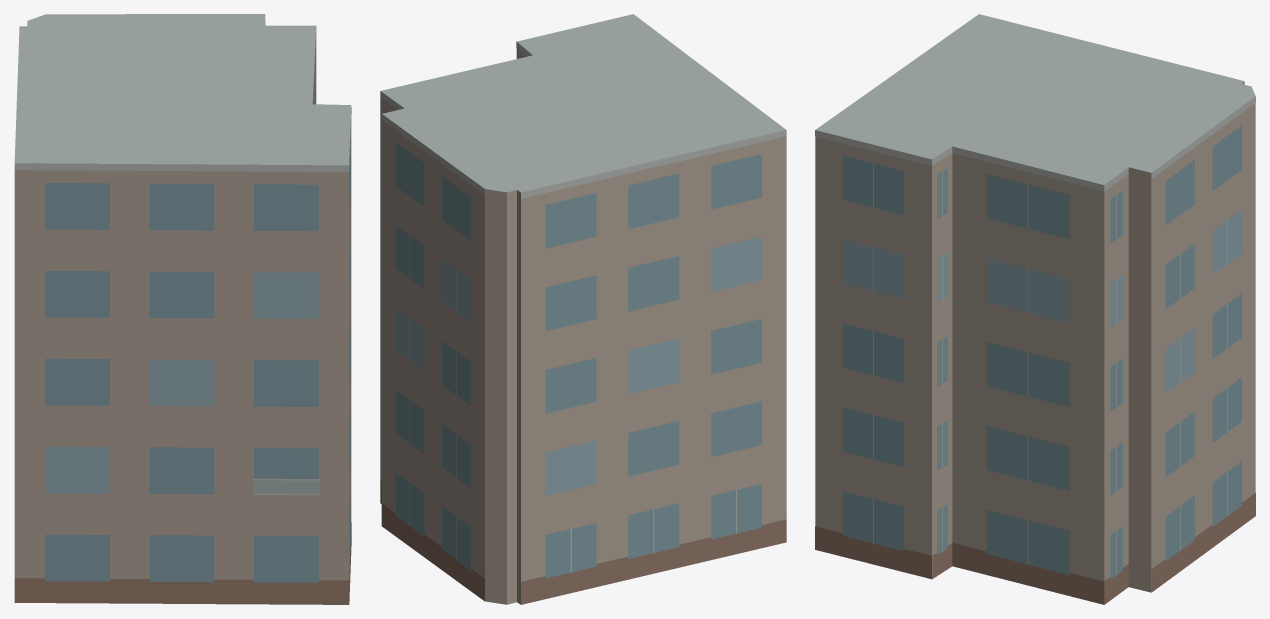
File: survey-upis-32874349.glb
The picture shows the model from 3 angles, left to right: view 1: azimuth 30°, elevation 25°; view 2: azimuth 150°, elevation 25°; view 3: azimuth 270°, elevation 25°; orthographic projection. The views are drawn at different scales.
Visible parts, largest first — view 1: survey-upis-32874349.tmp; view 2: survey-upis-32874349.tmp; view 3: survey-upis-32874349.tmp.
Part boxes in pixels (bbox=[...]): survey-upis-32874349.tmp: bbox=[14, 14, 351, 604]; survey-upis-32874349.tmp: bbox=[380, 14, 786, 604]; survey-upis-32874349.tmp: bbox=[815, 14, 1255, 604].
Bounding box in the file's own units: 13.82 × 15.8 × 15.04.
